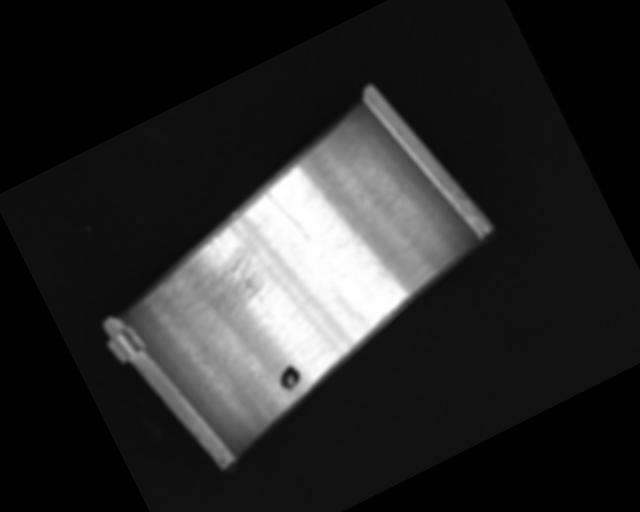blot: (274, 362, 305, 393)
nick: (387, 170, 468, 272), (266, 184, 313, 249)
scratch: (145, 211, 283, 340)
